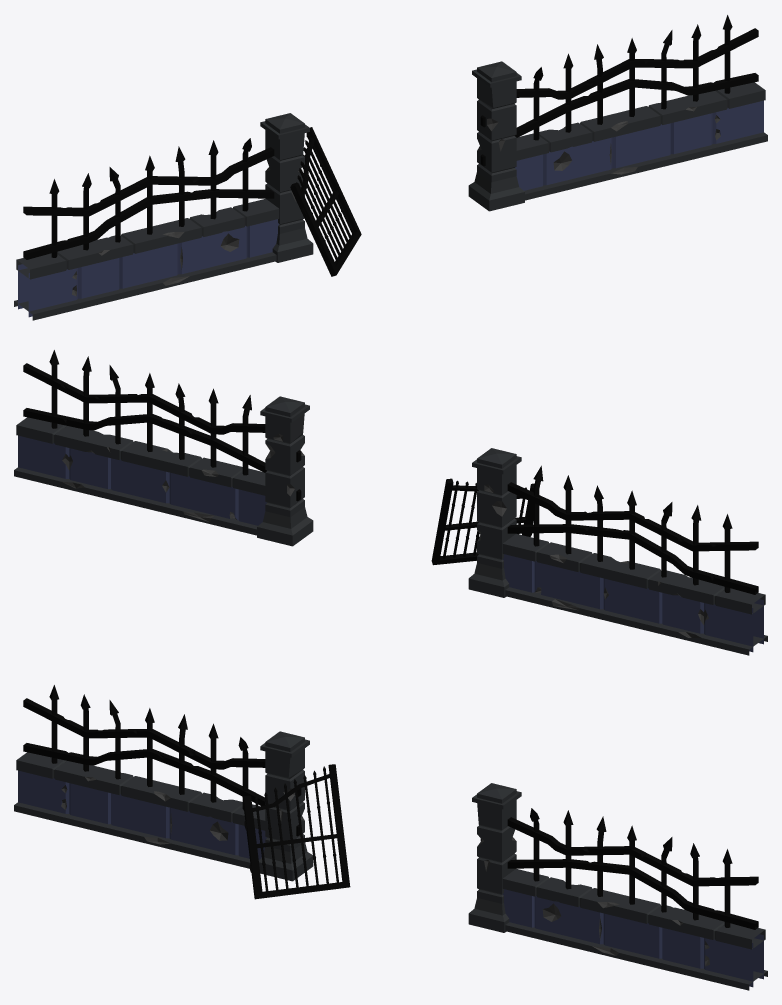
File: GraveyardGateDestroyed (1).fbx
3 views of the same model, one above another, from view 1: azimuth 30°, elevation 25°; view 2: azimuth 150°, elevation 25°; view 3: azimuth 330°, elevation 25° (orthographic).
Parts seen in each view (by area): view 1: Wall, GateRight; view 2: Wall, GateRight; view 3: Wall, GateRight.
Boxes of the visible parts, box(x1,y1,x2,y2) form: Wall: box(14, 15, 767, 320); GateRight: box(290, 127, 361, 276); Wall: box(14, 350, 767, 655); GateRight: box(431, 478, 534, 565); Wall: box(14, 685, 767, 990); GateRight: box(242, 764, 350, 899).
Bounding box in the file's own units: 847 × 146 × 107.
